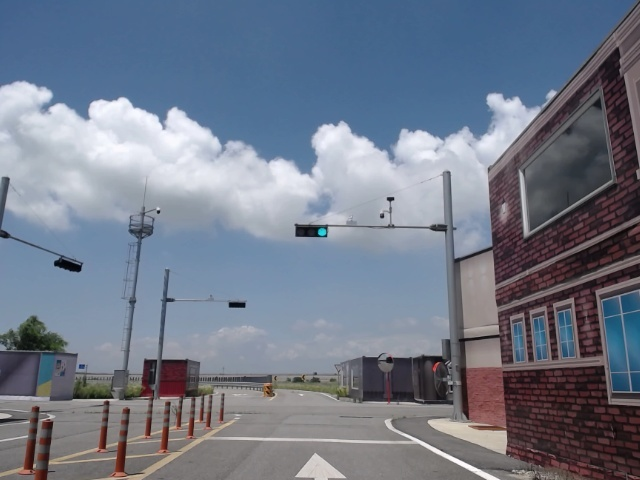green_3: (296, 226, 327, 237)
